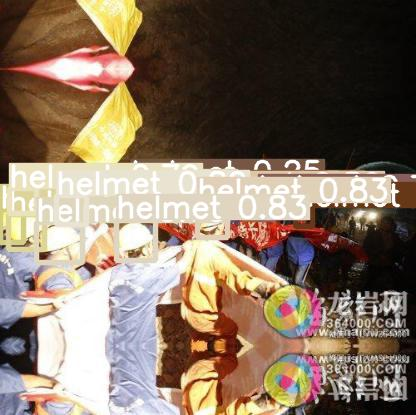helmet: (36, 222, 82, 262), (116, 219, 155, 260), (8, 214, 44, 249), (197, 202, 227, 237), (56, 195, 86, 224), (0, 209, 23, 242), (9, 188, 36, 213), (44, 194, 62, 214), (295, 207, 312, 226), (258, 199, 273, 219), (191, 196, 207, 213), (171, 195, 186, 210), (243, 203, 256, 219), (223, 201, 235, 217), (131, 184, 144, 198)
